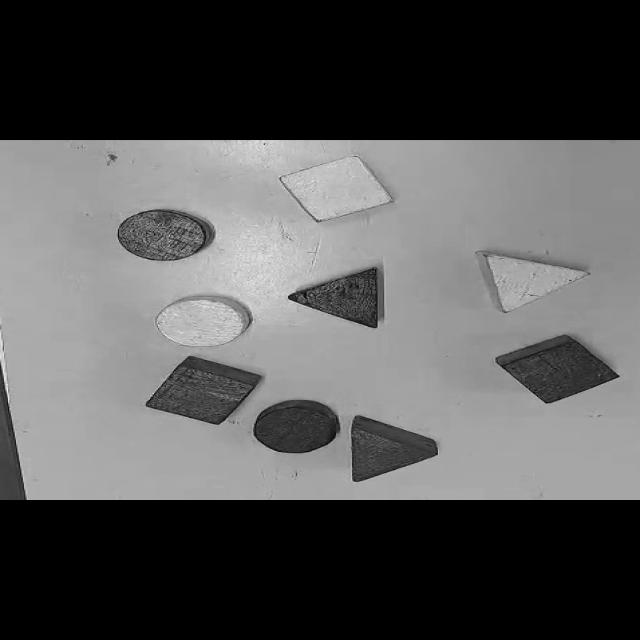bcircle: (254, 400, 340, 454)
bcube: (496, 336, 619, 403)
btriangle: (288, 269, 378, 328)
rcircle: (117, 209, 215, 261)
rcube: (146, 357, 261, 424)
rtriangle: (351, 416, 439, 481)
ycircle: (156, 297, 250, 347)
ycube: (279, 156, 392, 222)
ytriangle: (476, 252, 589, 313)
